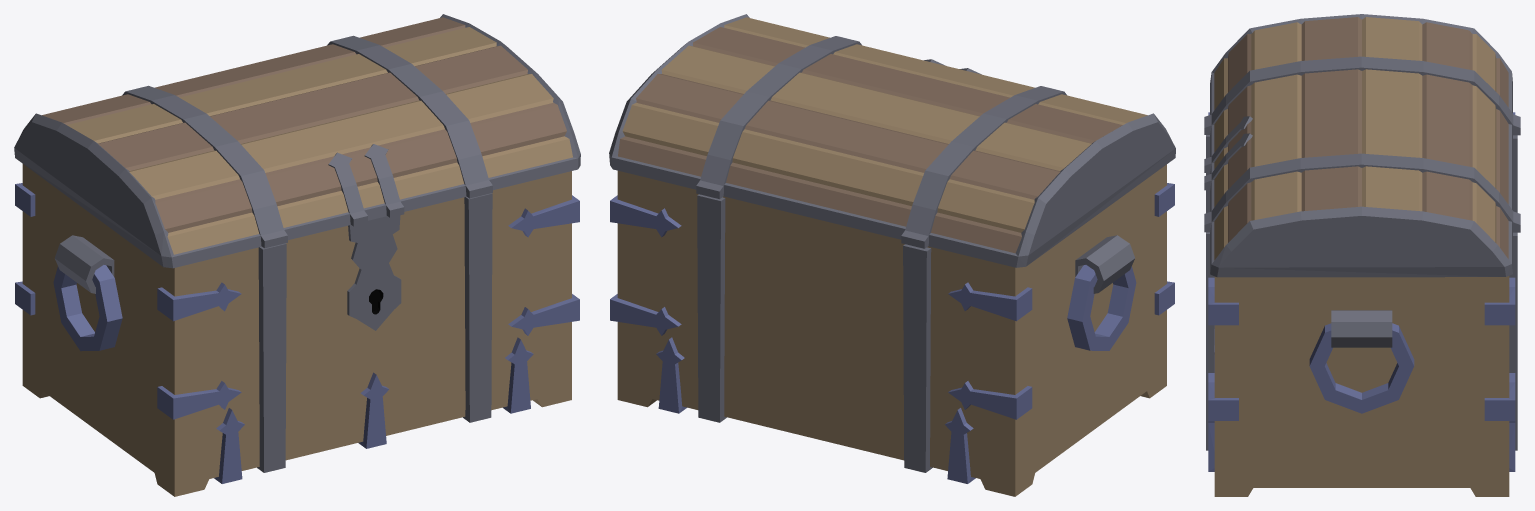
The model's file is _trunk_14.fbx.
3 renders of one model, left to right at view 1: azimuth 30°, elevation 25°; view 2: azimuth 150°, elevation 25°; view 3: azimuth 270°, elevation 25°, orthographic. The views are drawn at different scales.
Visible parts, largest first — view 1: _trunk_14; view 2: _trunk_14; view 3: _trunk_14.
Boxes of the visible parts, x1,y1,x2,y2 form: _trunk_14: (14, 14, 580, 496); _trunk_14: (609, 14, 1175, 496); _trunk_14: (1204, 14, 1520, 496).
Size of the model in its own units: 94.51 by 59.99 by 58.81.
